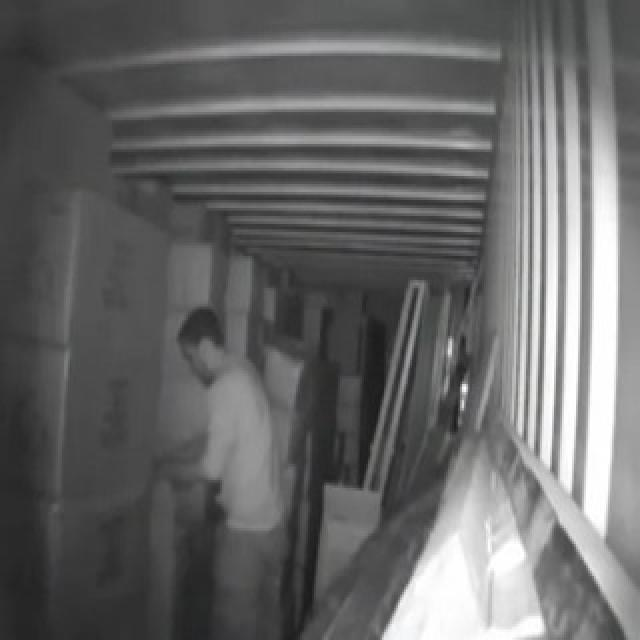thief: (164, 285, 298, 623)
